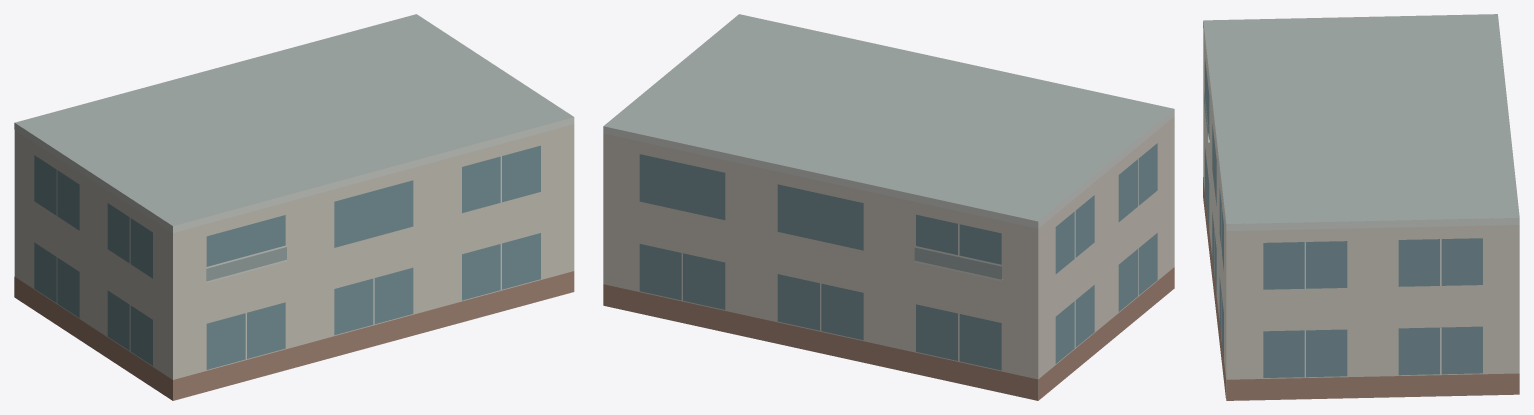
File: survey-upis-32810096.glb
3 views of the same model, side by side, from view 1: azimuth 30°, elevation 25°; view 2: azimuth 150°, elevation 25°; view 3: azimuth 270°, elevation 25° (orthographic). The views are drawn at different scales.
Visible parts, largest first — view 1: survey-upis-32810096.tmp; view 2: survey-upis-32810096.tmp; view 3: survey-upis-32810096.tmp.
Boxes of the visible parts, bbox=[...] form: survey-upis-32810096.tmp: bbox=[14, 14, 574, 400]; survey-upis-32810096.tmp: bbox=[603, 14, 1174, 400]; survey-upis-32810096.tmp: bbox=[1203, 14, 1519, 400].
Size of the model in its own units: 15.56 by 6.1 by 9.91.
